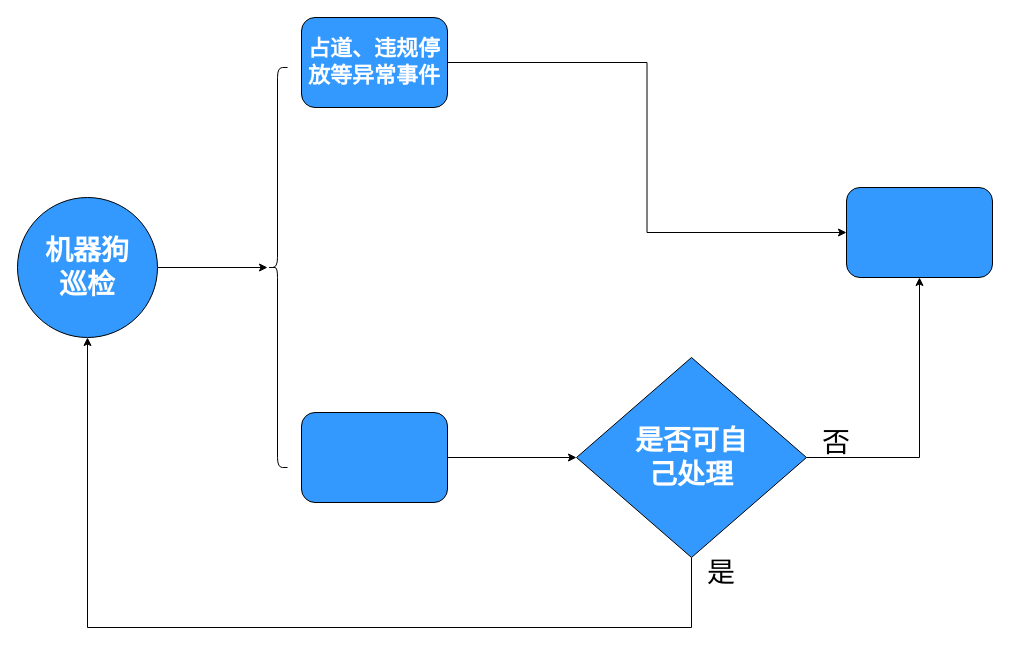
Some shapes in this 1010 by 653 pixel diagram are drawn without their labels. Each missing label, with the centre of its shape:
上报云平台: point (919, 232)
发现存在垃圾: point (374, 457)
